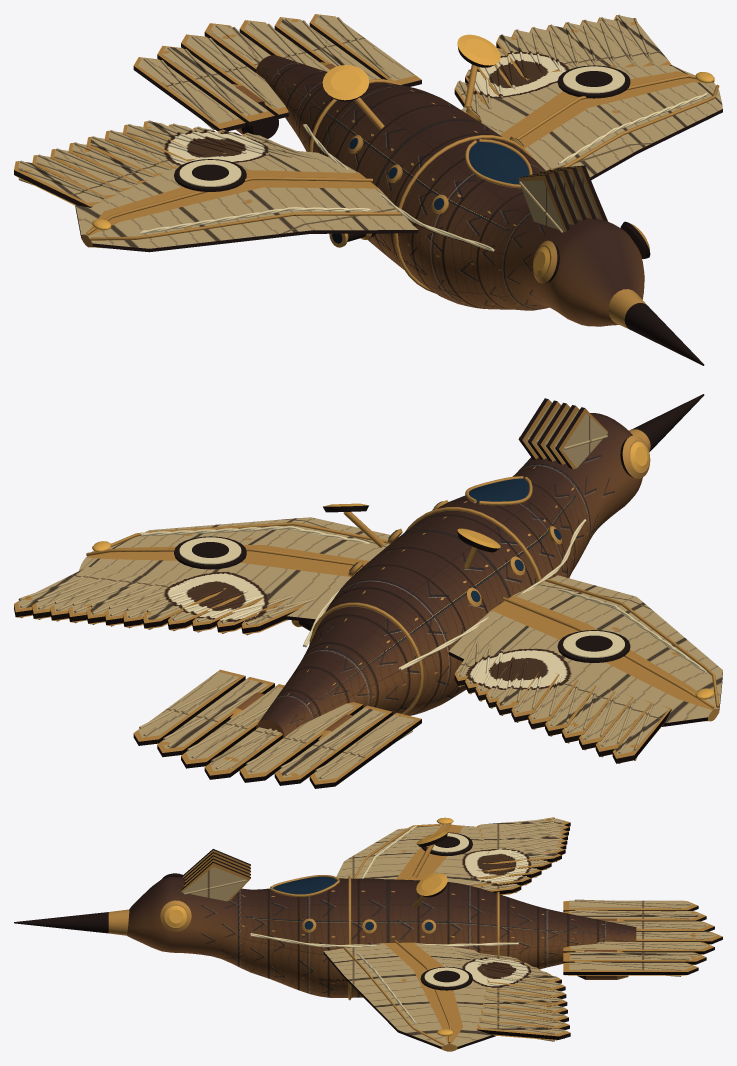
The picture shows the model from 3 angles, top to bottom: view 1: azimuth 30°, elevation 25°; view 2: azimuth 150°, elevation 25°; view 3: azimuth 270°, elevation 25°; orthographic projection. The views are drawn at different scales.
Visible parts, largest first — view 1: kingfisher_hull; view 2: kingfisher_hull; view 3: kingfisher_hull.
Boxes of the visible parts, x1=… form: kingfisher_hull: x1=14, y1=14, x2=722, y2=365; kingfisher_hull: x1=14, y1=394, x2=722, y2=788; kingfisher_hull: x1=14, y1=817, x2=722, y2=1051.
Size of the model in its own units: 12.5 by 3.69 by 17.
1 material, 1 textured.
